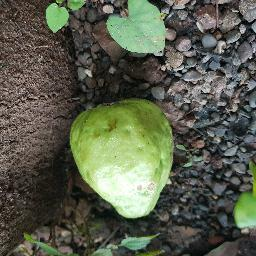Good_guava: (68, 93, 177, 228)
